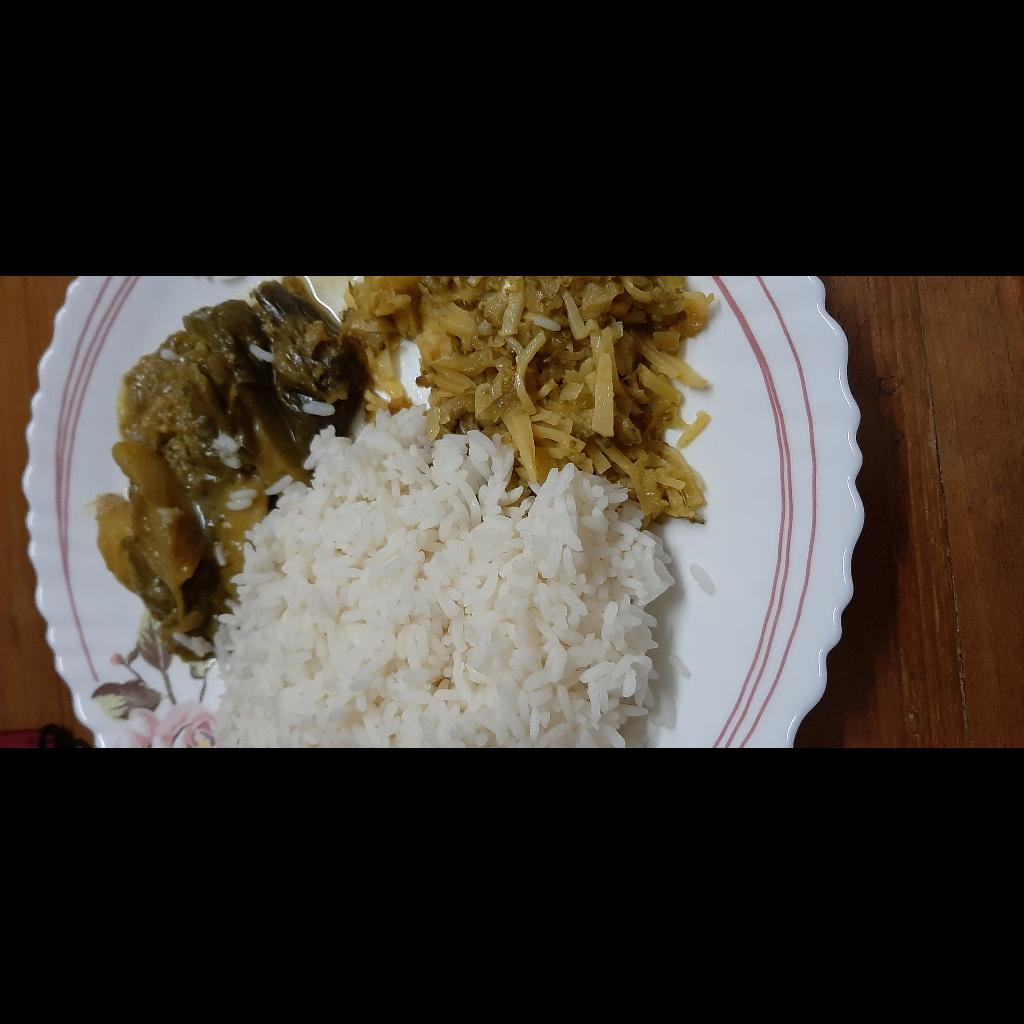begun-vaji: (109, 375, 472, 643)
potato: (218, 616, 472, 995)
rice: (0, 486, 356, 956), (153, 965, 186, 995), (69, 943, 97, 972)
